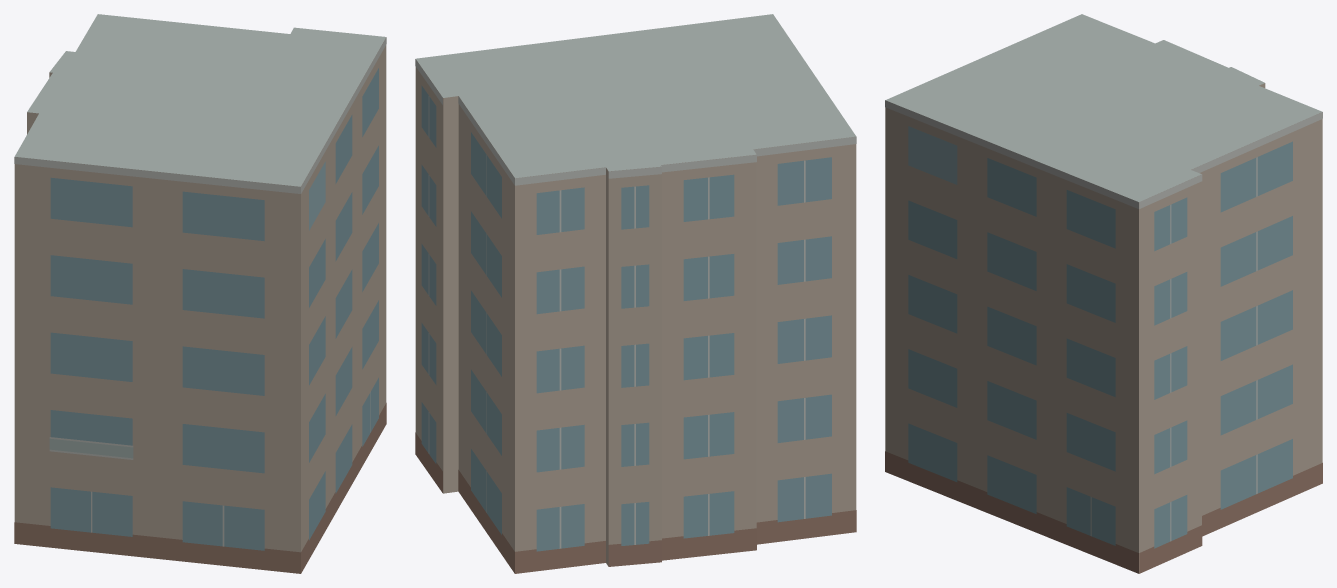
The model's file is survey-upis-32880800.glb.
The picture shows the model from 3 angles, left to right: view 1: azimuth 30°, elevation 25°; view 2: azimuth 150°, elevation 25°; view 3: azimuth 270°, elevation 25°; orthographic projection. The views are drawn at different scales.
Visible parts, largest first — view 1: survey-upis-32880800.tmp; view 2: survey-upis-32880800.tmp; view 3: survey-upis-32880800.tmp.
Part boxes in pixels (x1=…): survey-upis-32880800.tmp: x1=14, y1=14, x2=386, y2=573; survey-upis-32880800.tmp: x1=415, y1=14, x2=856, y2=573; survey-upis-32880800.tmp: x1=885, y1=14, x2=1322, y2=573.
Size of the model in its own units: 14.02 by 12.9 by 13.77.
